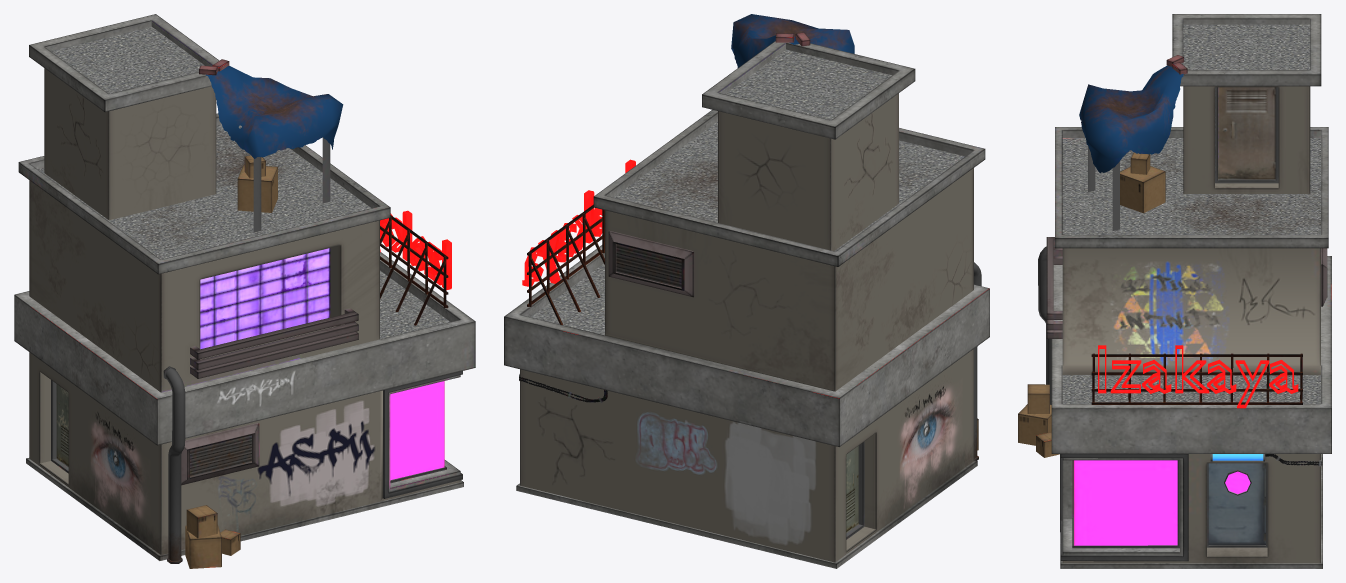
File: tokyo-izakaya.glb
3 views of the same model, side by side, from view 1: azimuth 30°, elevation 25°; view 2: azimuth 150°, elevation 25°; view 3: azimuth 270°, elevation 25° (orthographic). The views are drawn at different scales.
Visible parts, largest first — view 1: Base Building, Cloth, railing, Vent, Pipe, sign support, Sign, Box02, Box03, Box04, Pole02; view 2: Base Building, Vent02, Cloth, sign support, Sign, Pipe; view 3: Base Building, Cloth, Sign, sign support, Box02, railing, Pipe, Box03, Box04, Door Window, Pole, Box.
Boxes of the visible parts, x1,y1,x2,y2 form: Base Building: (14, 14, 475, 560); Cloth: (205, 66, 343, 158); railing: (190, 308, 358, 378); Vent: (181, 423, 259, 485); Pipe: (163, 366, 185, 563); sign support: (380, 215, 448, 325); Sign: (380, 210, 451, 290); Box02: (237, 164, 277, 212); Box03: (185, 525, 221, 568); Box04: (186, 505, 217, 538); Pole02: (253, 157, 261, 232); Base Building: (504, 41, 989, 568); Vent02: (608, 230, 694, 297); Cloth: (731, 14, 854, 67); sign support: (527, 204, 604, 324); Sign: (522, 159, 635, 286); Pipe: (974, 262, 981, 460); Base Building: (1051, 14, 1331, 568); Cloth: (1079, 65, 1183, 173); Sign: (1098, 345, 1298, 408); sign support: (1091, 353, 1302, 404); Box02: (1120, 166, 1165, 213); railing: (1046, 237, 1062, 338); Pipe: (1038, 246, 1054, 404); Box03: (1018, 404, 1051, 445); Box04: (1027, 384, 1049, 413); Door Window: (1224, 469, 1251, 495); Pole: (1112, 161, 1119, 230); Box: (1130, 152, 1150, 174).
Size of the model in its own units: 790 by 1005 by 687.
Materials: 1 (1 with a texture image).
